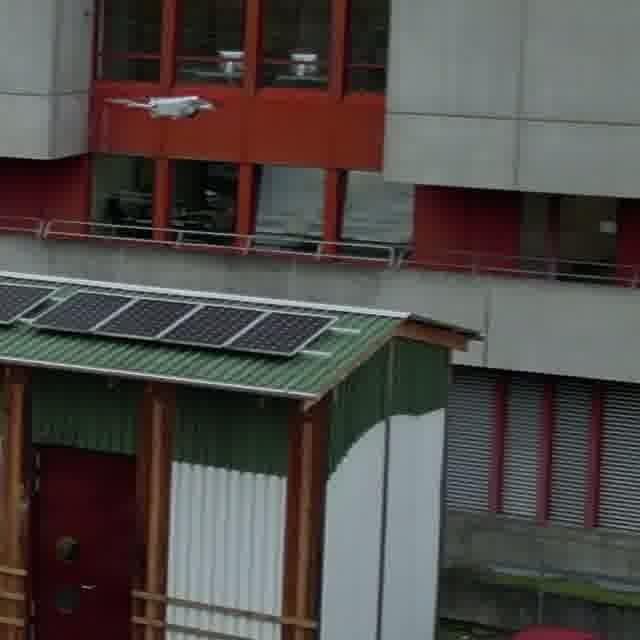Drohne: (107, 95, 216, 119)
